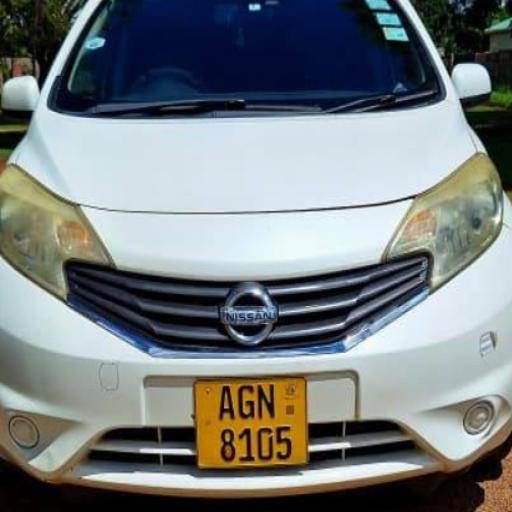number-plates: (195, 382, 302, 464)
